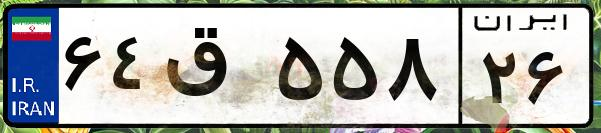2: (475, 38, 525, 113)
4: (110, 28, 158, 98)
5: (270, 28, 330, 110), (330, 28, 385, 110)
6: (57, 26, 110, 100), (525, 38, 570, 115)
8: (385, 28, 445, 110)
ق: (158, 20, 270, 120)
